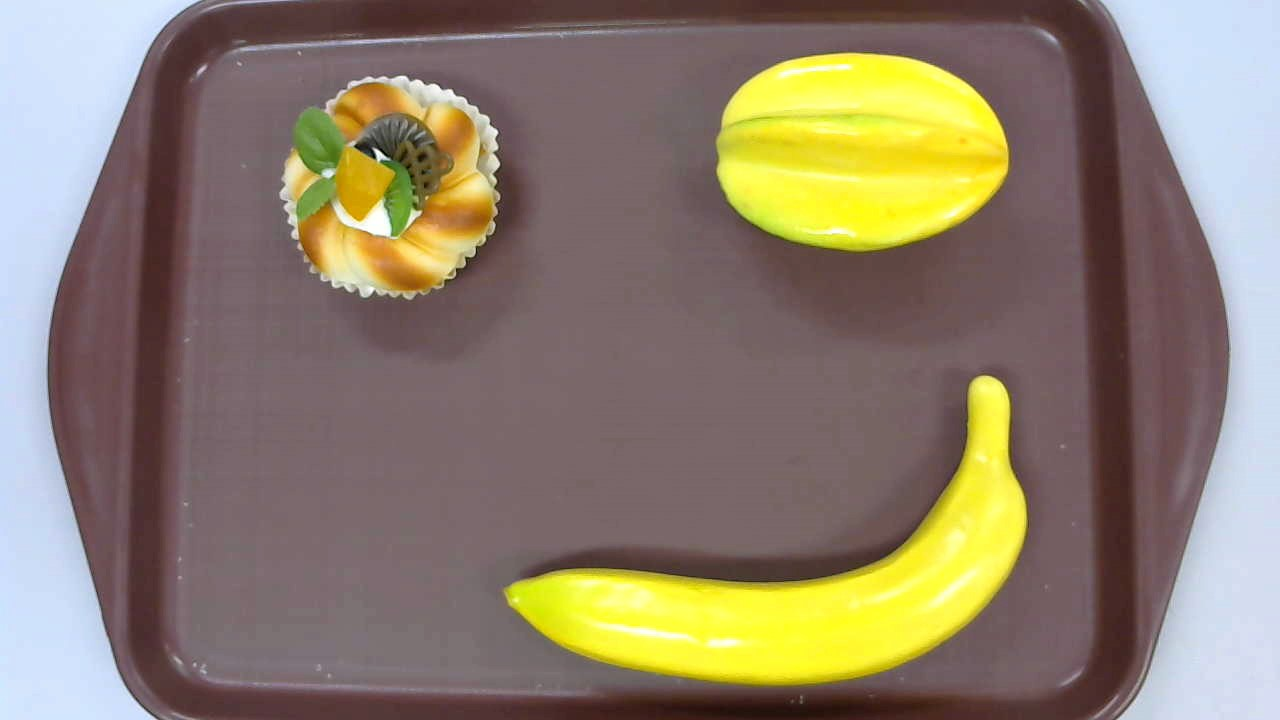banana: (502, 373, 1027, 686)
fruit tart: (278, 73, 502, 300)
star fruit: (716, 53, 1010, 253)
